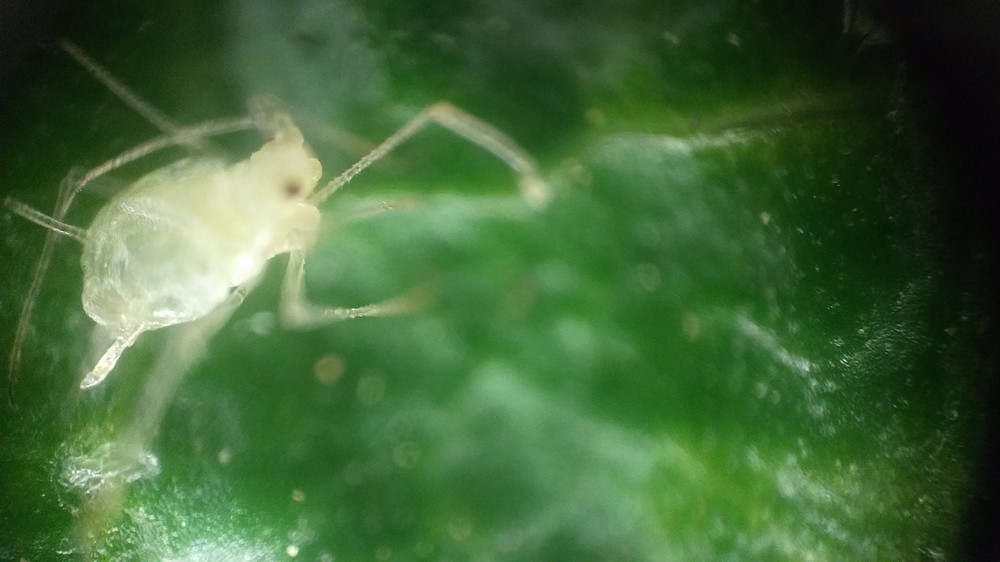Pulgon: (28, 40, 555, 427)
